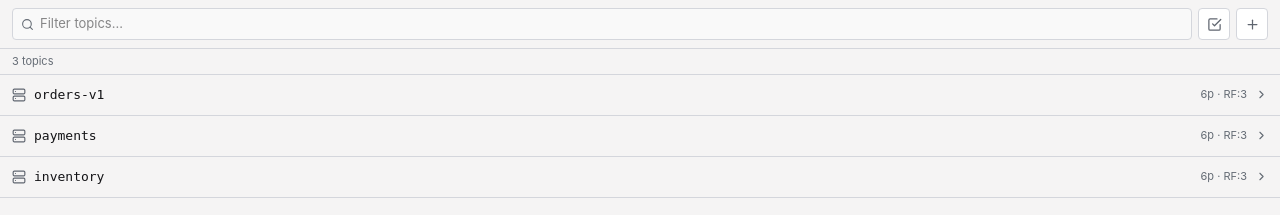
Test: [@topic-list] search and filter › count bar shows "N of M topics" when a filter is active
The image size is (1280, 215).
Type "orders" into the field labelled "Filter topics".
click(612, 24); type("orders")  # box x1=40 y1=14 x2=1183 y2=34
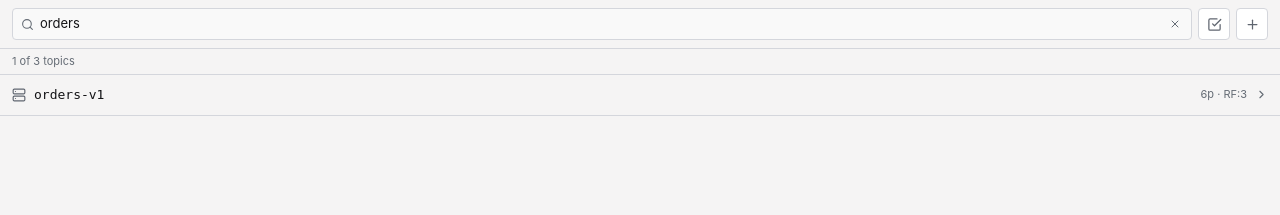
Expected: the text "1 of 3 topics" is shown, x1=0 y1=49 x2=1279 y2=74
